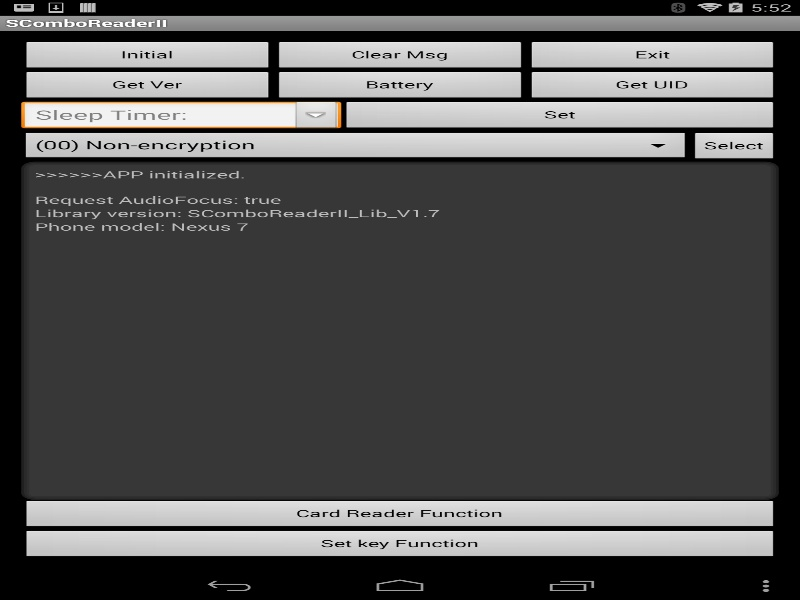Button: (21, 500, 778, 530), (21, 530, 778, 560), (341, 101, 778, 131), (21, 41, 274, 71), (21, 71, 274, 101), (274, 41, 526, 71), (526, 41, 778, 71), (274, 71, 526, 101), (526, 71, 778, 101), (690, 132, 778, 162), (291, 101, 341, 131)
Input: (21, 101, 341, 131)
